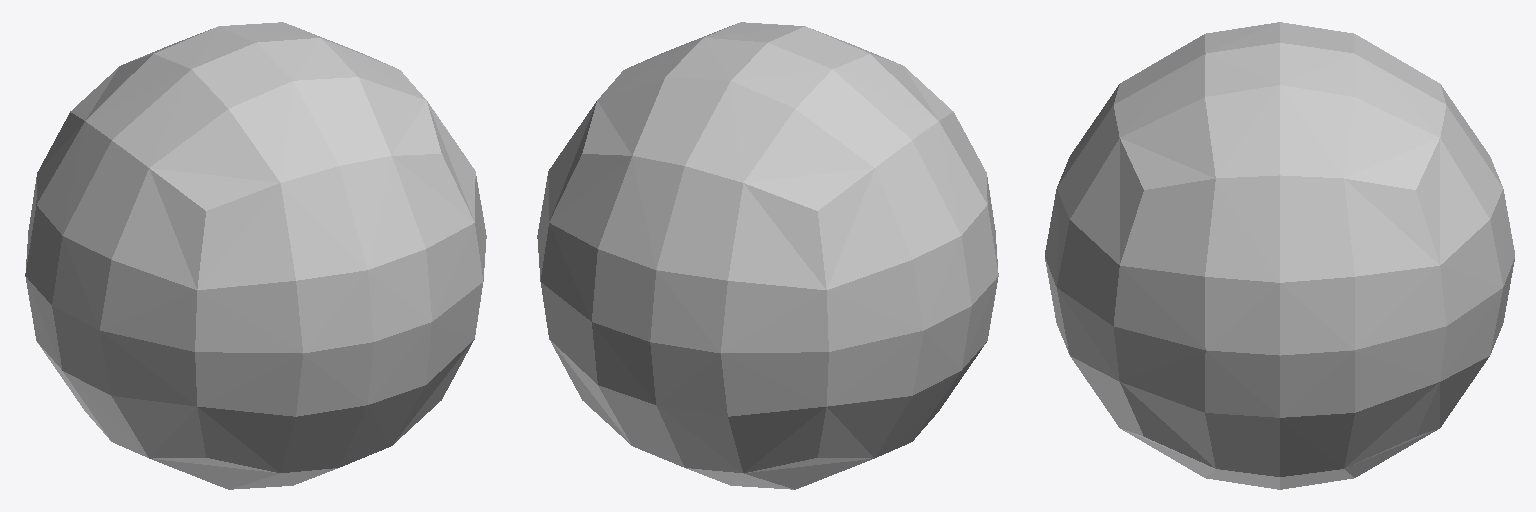
The model's file is sphere_platonic_octahedron.obj.
3 views of the same model, side by side, from view 1: azimuth 30°, elevation 25°; view 2: azimuth 150°, elevation 25°; view 3: azimuth 270°, elevation 25° (orthographic).
Parts seen in each view (by area): view 1: sphere_platonic_octahedron; view 2: sphere_platonic_octahedron; view 3: sphere_platonic_octahedron.
Part boxes in pixels (x1,y1,x2,y2): sphere_platonic_octahedron: (25, 22, 486, 489); sphere_platonic_octahedron: (537, 22, 998, 489); sphere_platonic_octahedron: (1045, 22, 1514, 489).
Size of the model in its own units: 2 by 2 by 2.